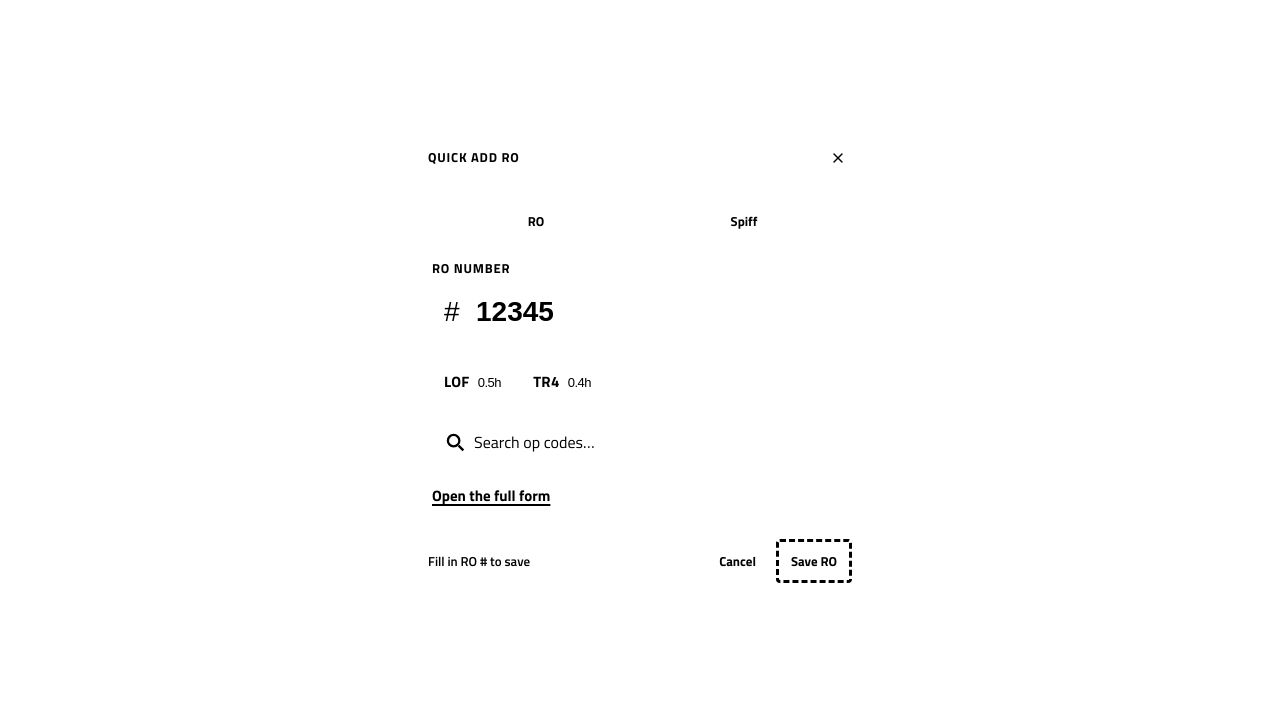
Test: QuickAddModal — op-code chips are toggles › presses a chip when tapped, keeps it visible, and adds one line
The image size is (1280, 720).
Click the button "LOF 0.5h" at {"x": 473, "y": 382}, box [432,358,513,406]
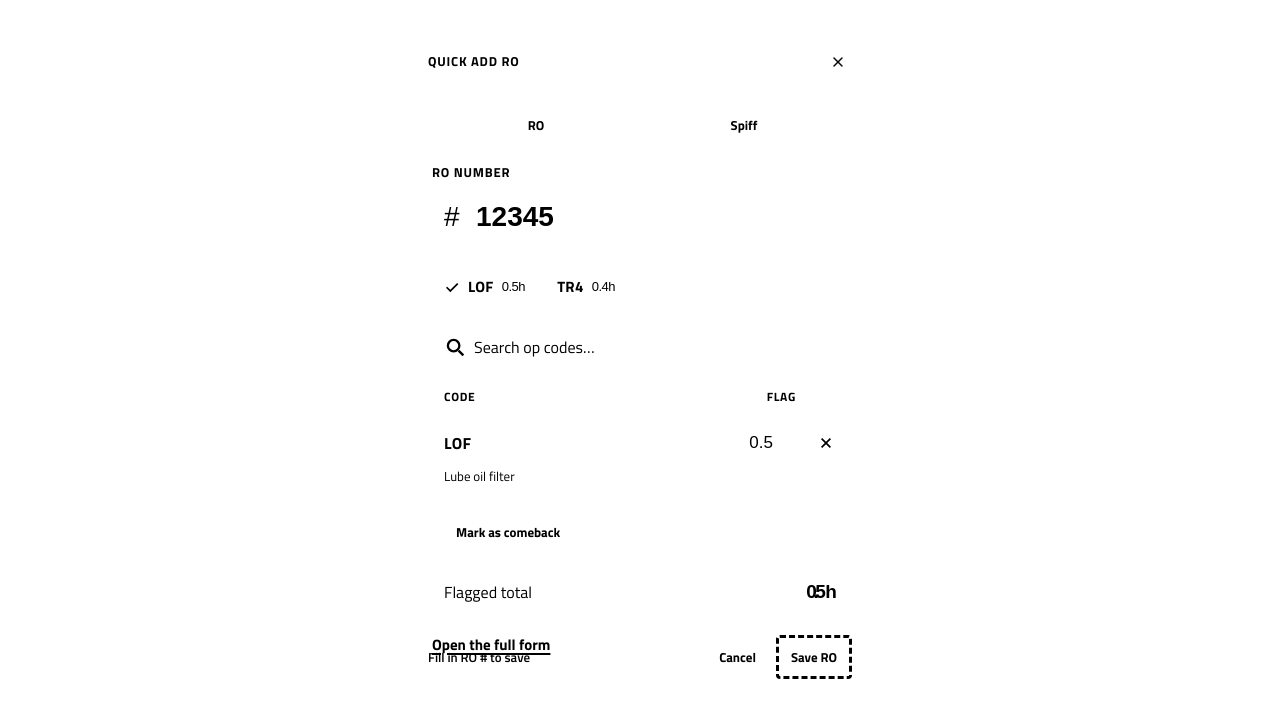
Check: the button named "Remove" is shown, box [804,421,848,465]
